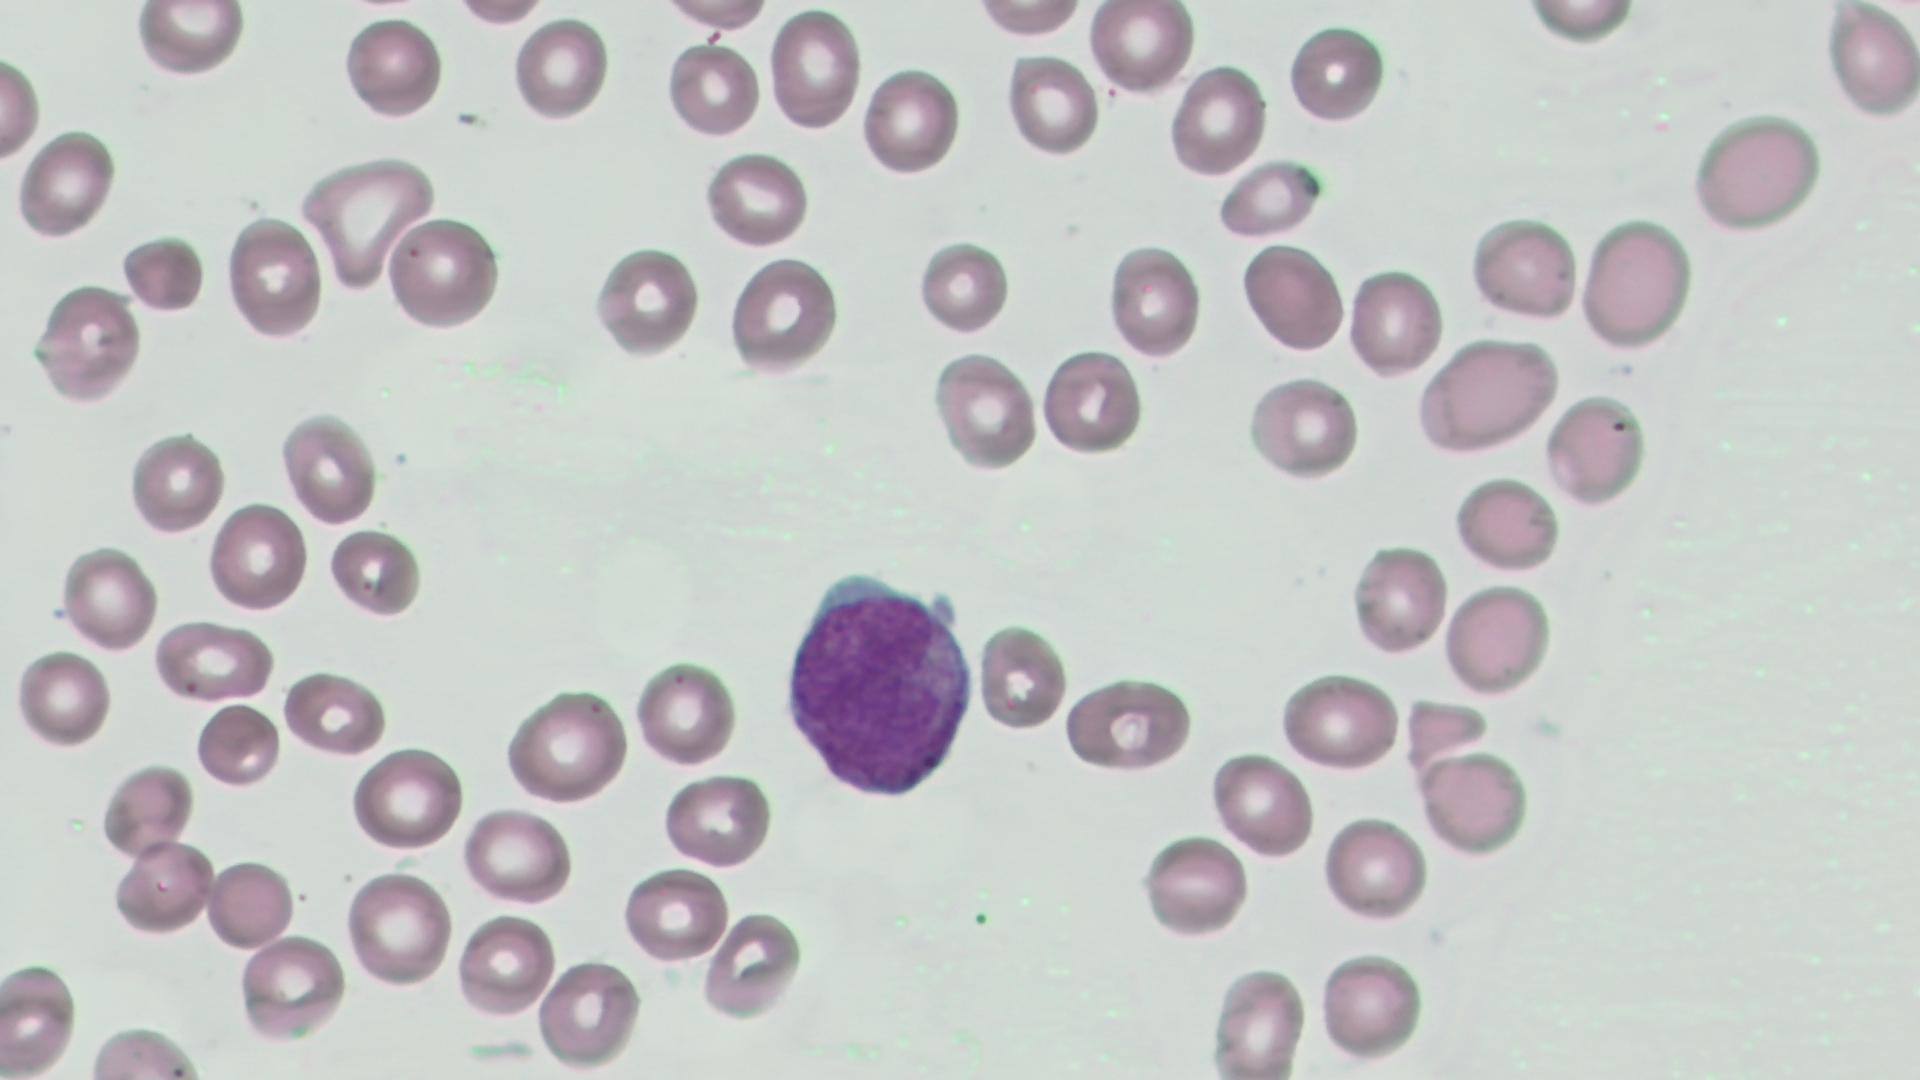RBC: (295, 153, 436, 291), (1414, 336, 1563, 454), (1687, 109, 1824, 236), (1578, 212, 1695, 355), (502, 684, 630, 806), (382, 212, 504, 336), (723, 255, 843, 378), (342, 864, 455, 990), (931, 345, 1040, 476), (32, 280, 142, 407), (1540, 386, 1652, 512), (1440, 576, 1553, 699), (222, 211, 324, 344), (587, 243, 700, 363), (1276, 669, 1403, 775), (1244, 371, 1361, 484), (1317, 811, 1429, 928), (1316, 945, 1425, 1065), (1060, 674, 1189, 775), (1465, 212, 1581, 324), (11, 125, 117, 245), (1240, 237, 1346, 357), (1415, 746, 1528, 858), (349, 745, 465, 855), (1208, 746, 1317, 862), (766, 5, 862, 136), (1036, 342, 1145, 458), (632, 651, 738, 769), (1138, 829, 1250, 940), (237, 932, 347, 1044), (339, 11, 446, 125), (1167, 61, 1269, 181), (860, 63, 963, 181), (1348, 541, 1448, 661), (537, 957, 642, 1071), (618, 862, 732, 968), (206, 498, 309, 615), (1821, 1, 1917, 125), (277, 407, 378, 525), (1106, 241, 1204, 363), (1207, 963, 1309, 1077), (458, 806, 572, 909), (658, 770, 775, 870), (1346, 262, 1444, 381), (7, 644, 113, 752), (506, 15, 611, 125), (57, 541, 160, 653), (1282, 18, 1386, 128), (454, 910, 558, 1019), (1452, 473, 1560, 575), (700, 149, 808, 251), (107, 836, 214, 938), (1005, 47, 1101, 160), (1084, 3, 1197, 98), (975, 620, 1068, 735), (125, 429, 223, 538), (663, 38, 764, 142), (152, 618, 273, 703), (914, 236, 1014, 338), (129, 0, 251, 82), (98, 760, 194, 862), (280, 667, 386, 758), (1215, 156, 1325, 240), (324, 526, 421, 620), (204, 855, 297, 952), (0, 963, 76, 1073), (194, 700, 282, 790), (0, 40, 42, 178), (1515, 0, 1640, 45), (965, 0, 1085, 41), (653, 1, 771, 34), (442, 0, 549, 28)
WBC: (778, 566, 982, 803)
